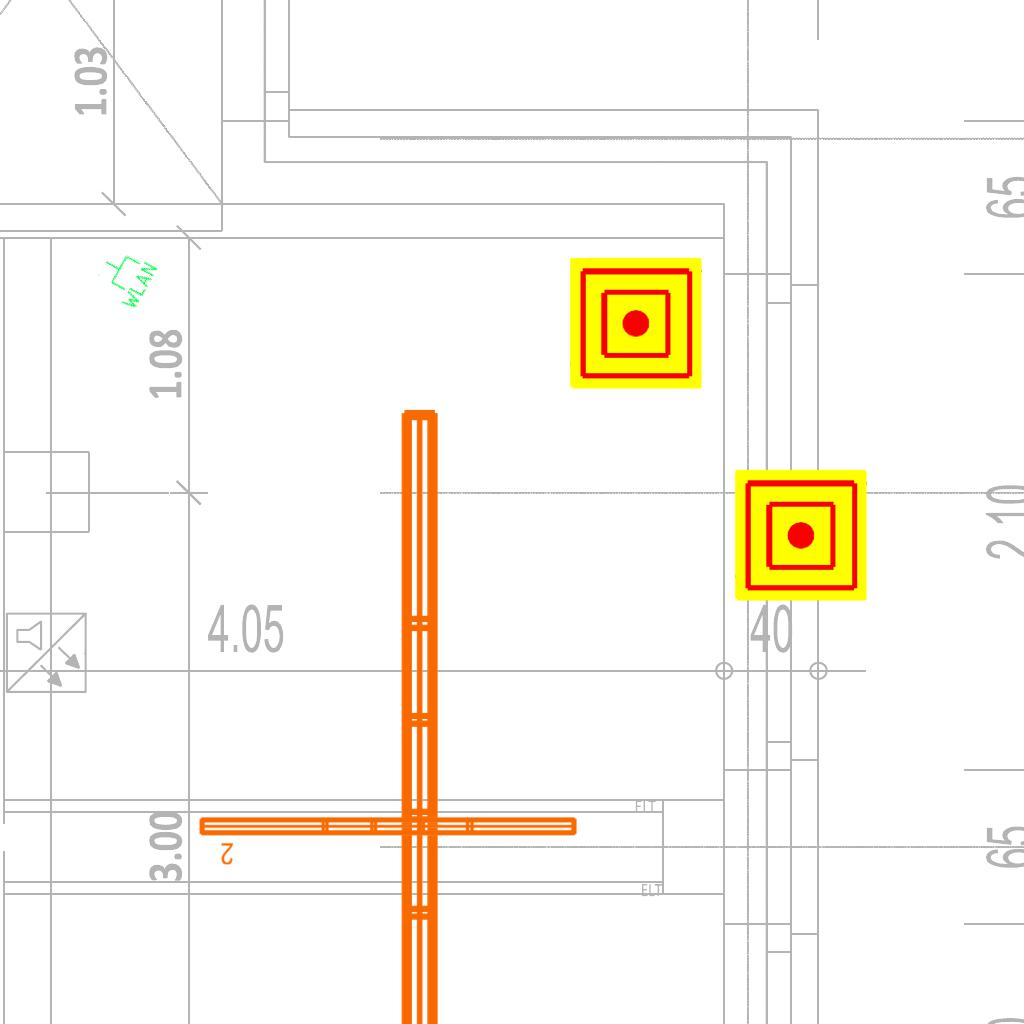Ambulanz_Pendelleuchte_LED: (389, 399, 501, 1024), (195, 811, 582, 867)
NAM-Nichtautomatischer_Melder: (735, 469, 867, 601), (570, 257, 702, 389)
WLAN: (89, 242, 161, 314)
